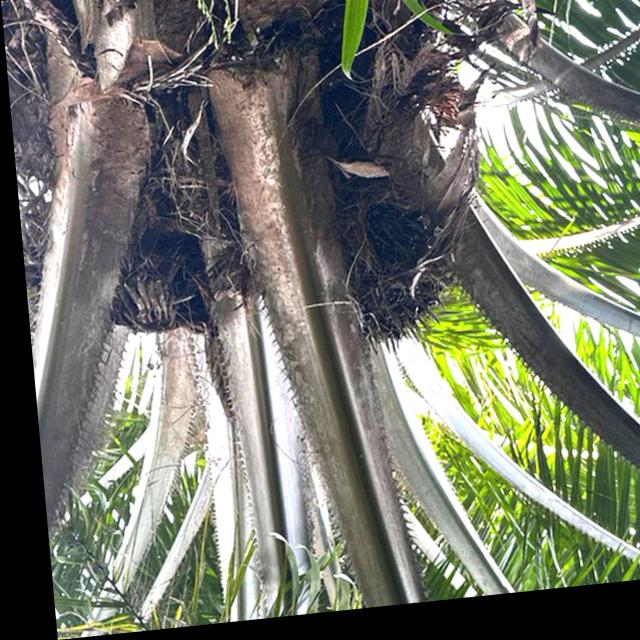ripe: (312, 190, 444, 363)
